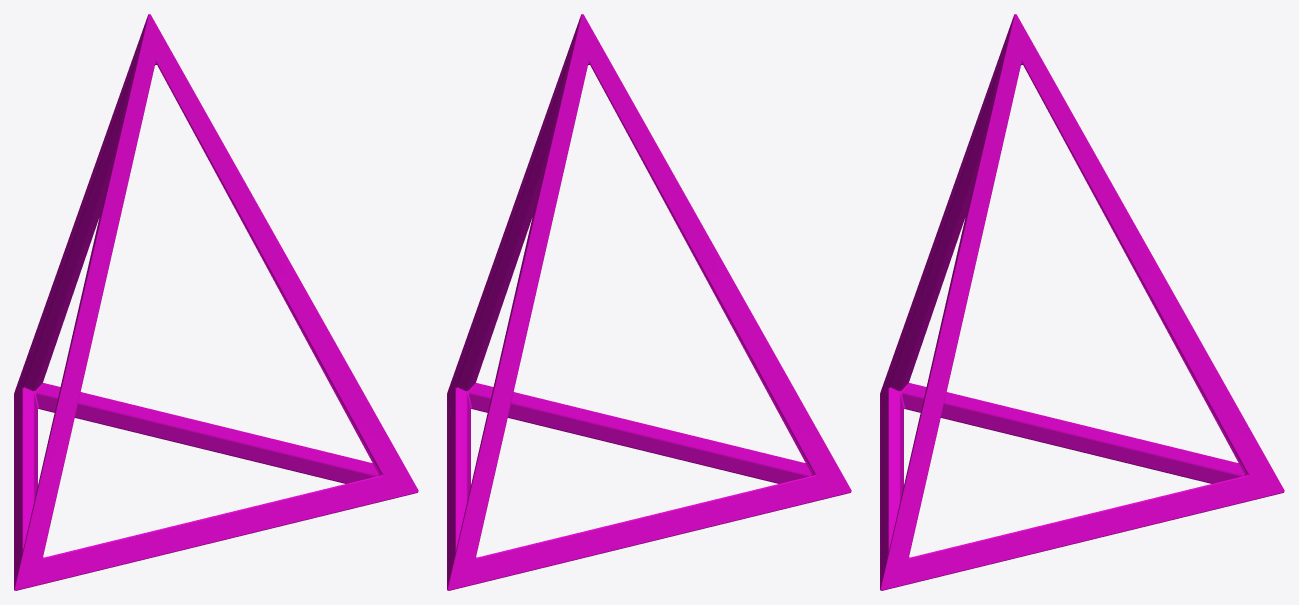
Rendered from cone-violet1.glb.
3 views of the same model, side by side, from view 1: azimuth 30°, elevation 25°; view 2: azimuth 150°, elevation 25°; view 3: azimuth 270°, elevation 25° (orthographic).
Visible parts, largest first — view 1: Cone-green; view 2: Cone-green; view 3: Cone-green.
Boxes of the visible parts, <box> form: Cone-green: <box>14,14,418,590</box>; Cone-green: <box>447,14,851,590</box>; Cone-green: <box>880,14,1284,590</box>.
Bounding box in the file's own units: 1.86 × 2.1 × 1.61.
